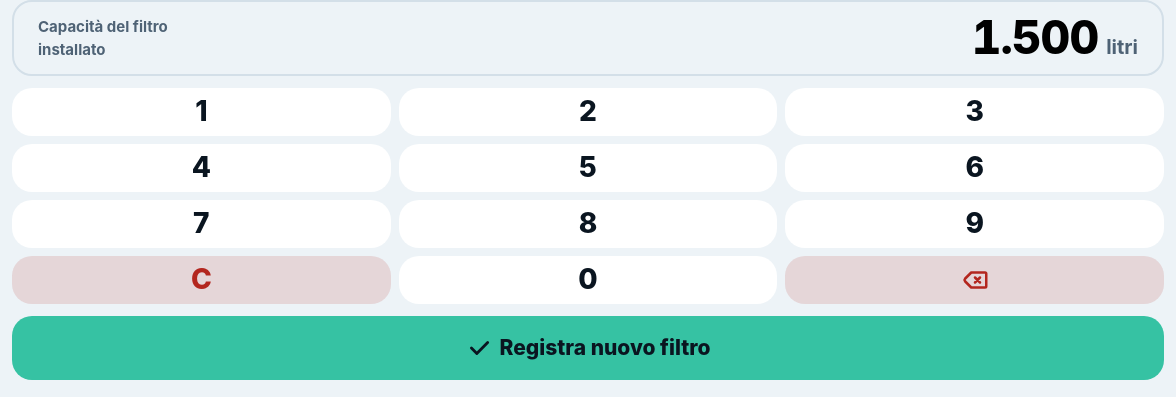
Test: KeyPadPanel › deletes the last digit
Click the button named "Cancella ultima cifra". click: (975, 280)
box: [785,256,1164,304]
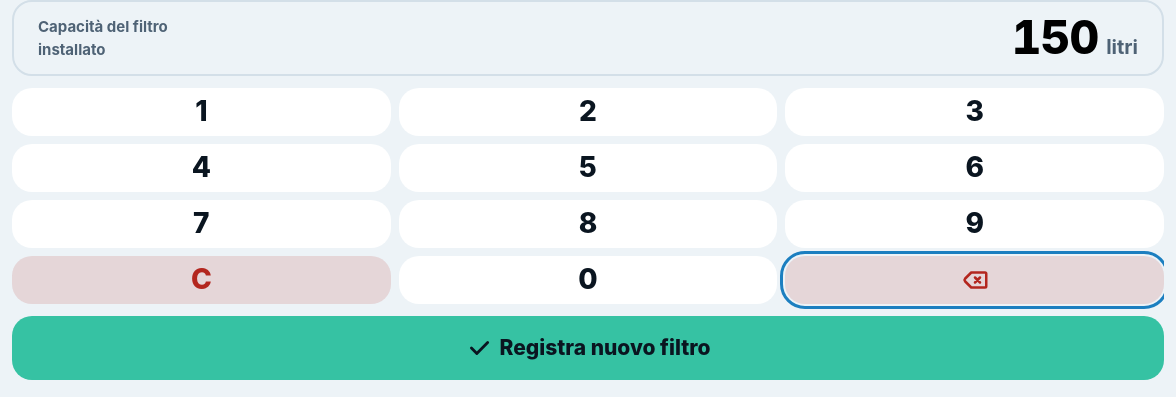
Check: the message named "Valore inserito" reads "150 litri", box [1012,2,1138,74]
